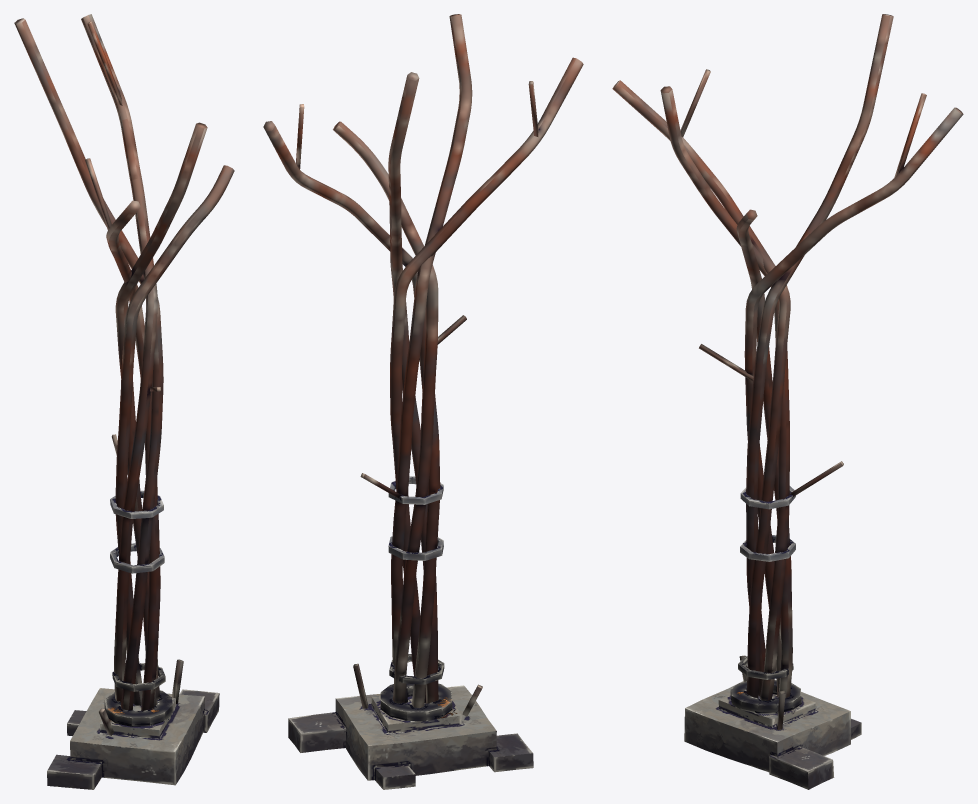
3 views of the same model, side by side, from view 1: azimuth 30°, elevation 25°; view 2: azimuth 150°, elevation 25°; view 3: azimuth 270°, elevation 25° (orthographic). The views are drawn at different scales.
Parts seen in each view (by area): view 1: Rebar, Footing, Ties; view 2: Rebar, Footing, Ties; view 3: Rebar, Footing, Ties.
Part boxes in pixels (left/top/right/bottom): Rebar: left=14, top=14, right=234, bottom=735; Footing: left=47, top=688, right=219, bottom=789; Ties: left=104, top=490, right=172, bottom=726; Rebar: left=263, top=14, right=583, bottom=716; Footing: left=288, top=685, right=533, bottom=789; Ties: left=380, top=476, right=452, bottom=721; Rebar: left=612, top=14, right=963, bottom=729; Footing: left=684, top=681, right=861, bottom=789; Ties: left=730, top=486, right=801, bottom=713.
Bounding box in the file's own units: 5.34 × 17.7 × 8.02.
Materials: 3 (3 with a texture image).
